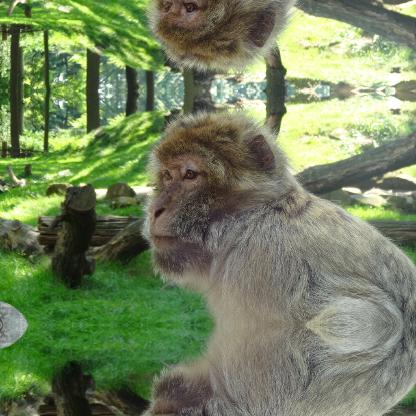Monkey: (141, 107, 415, 324), (141, 326, 416, 415), (141, 0, 416, 76)
